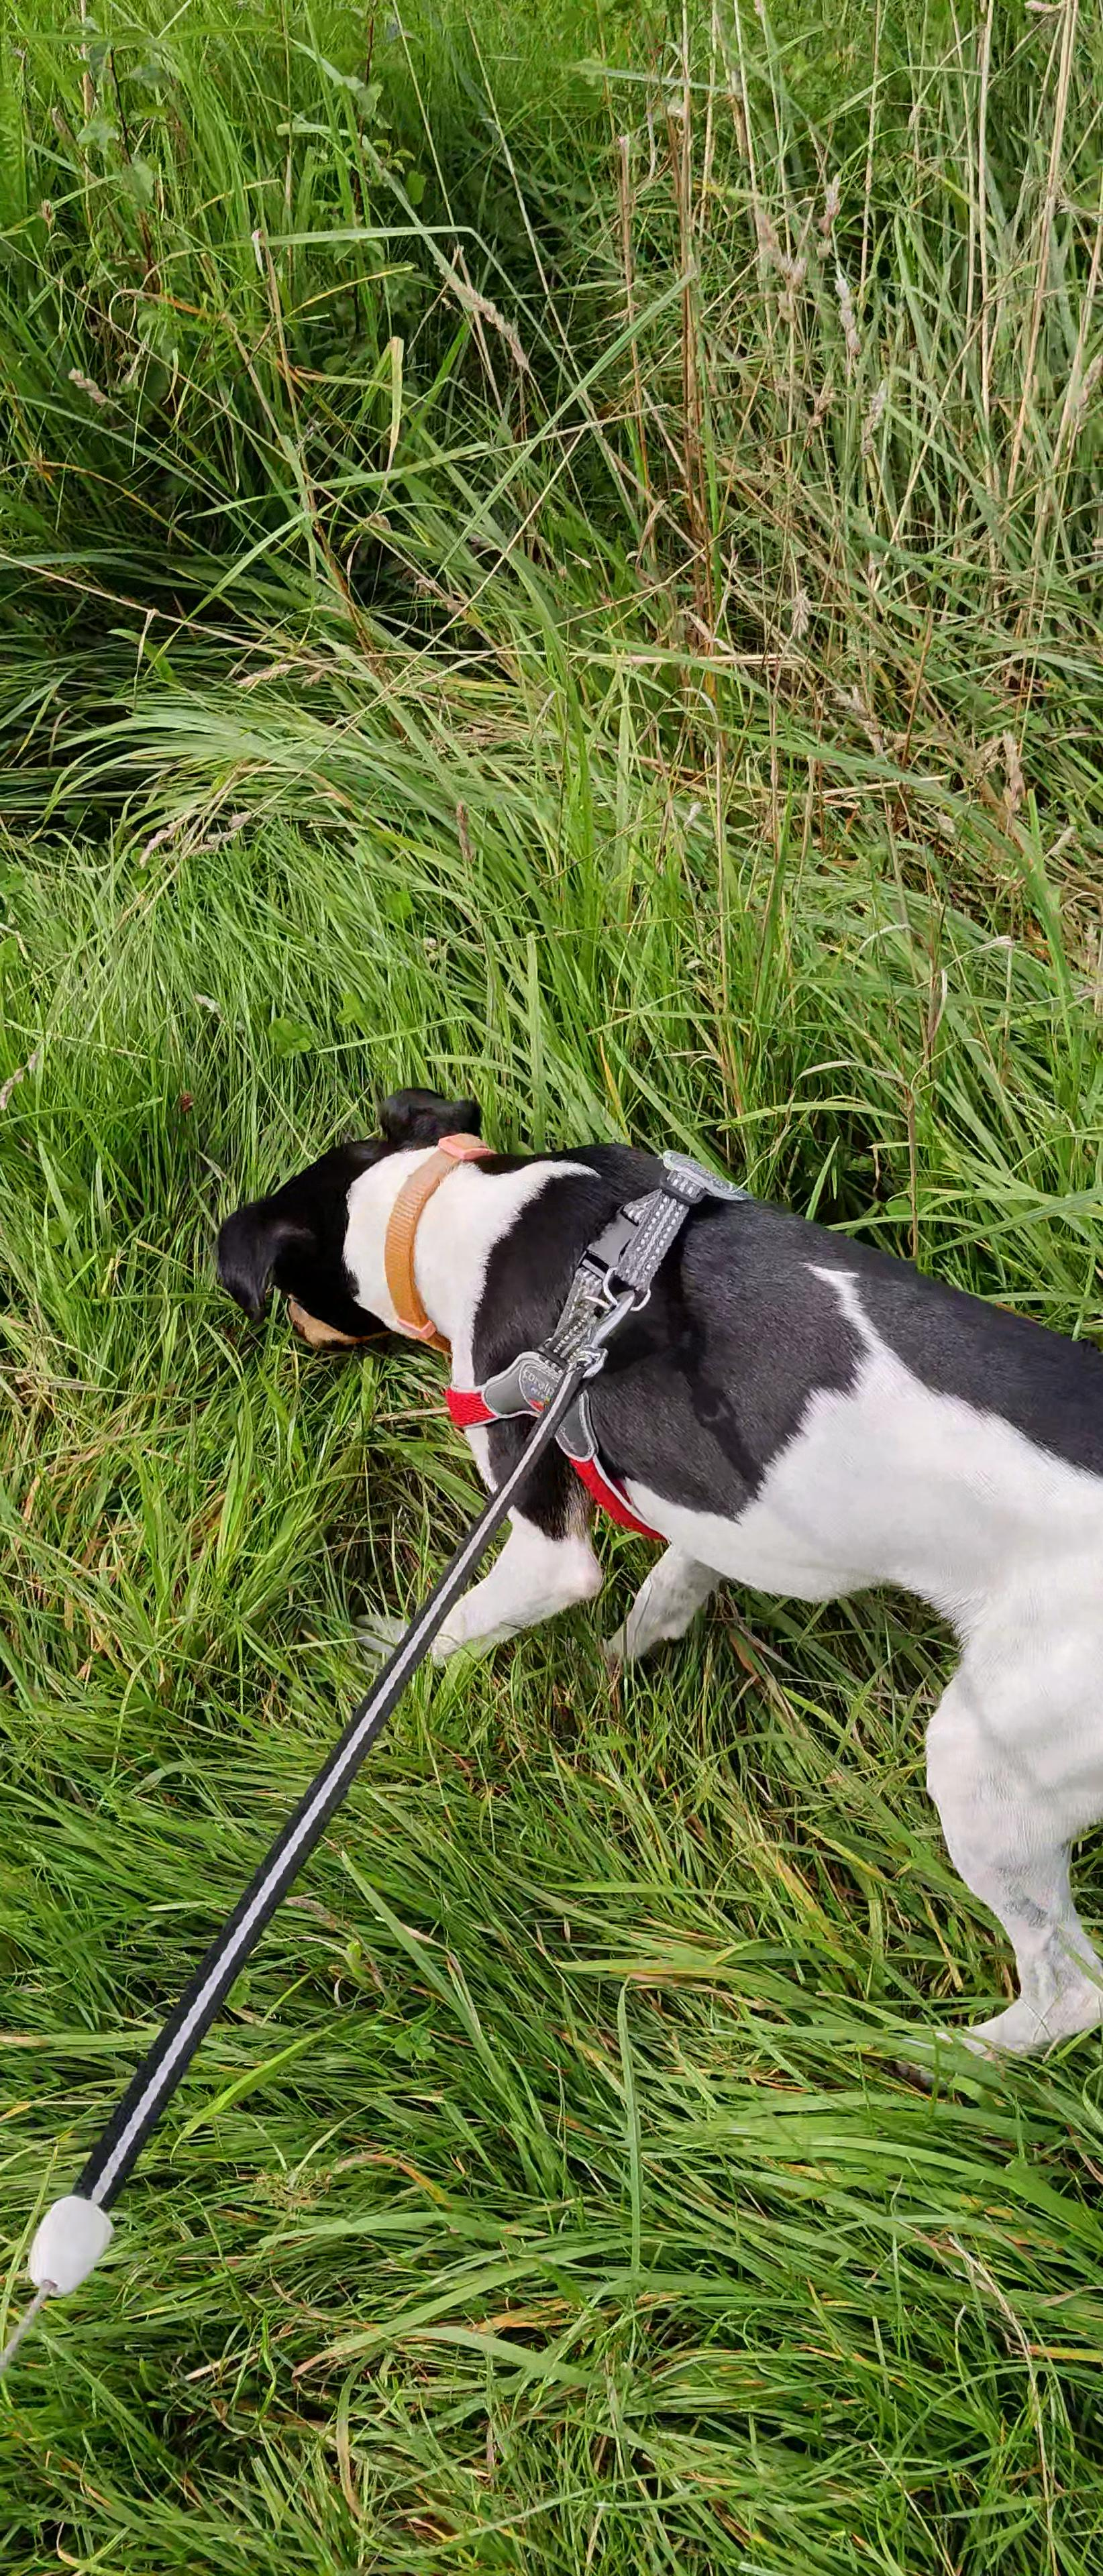Dog: (186, 1017, 1103, 2086)
